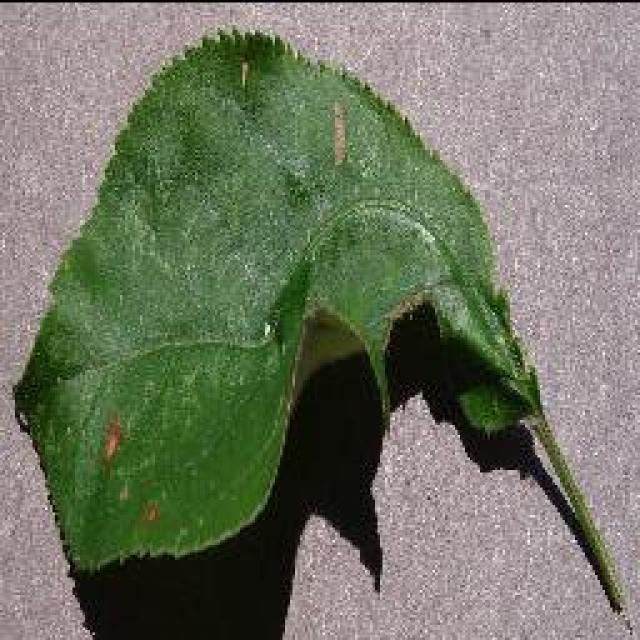apple black rot: (10, 22, 630, 638)
